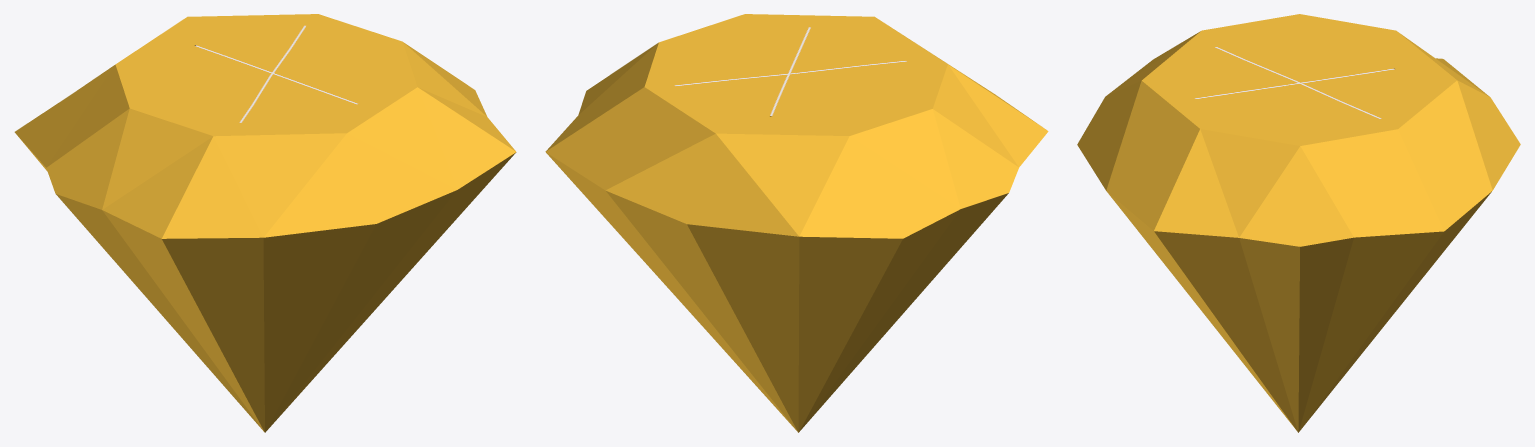
Rendered from rune_gammur_yellow.fbx.
3 views of the same model, side by side, from view 1: azimuth 30°, elevation 25°; view 2: azimuth 150°, elevation 25°; view 3: azimuth 270°, elevation 25° (orthographic).
Parts seen in each view (by area): view 1: Circle; view 2: Circle; view 3: Circle.
Boxes of the visible parts, <box> form: Circle: <box>14,14,516,432</box>; Circle: <box>545,14,1048,432</box>; Circle: <box>1077,14,1520,432</box>.
Bounding box in the file's own units: 397 × 322 × 365.
1 material, 1 textured.
